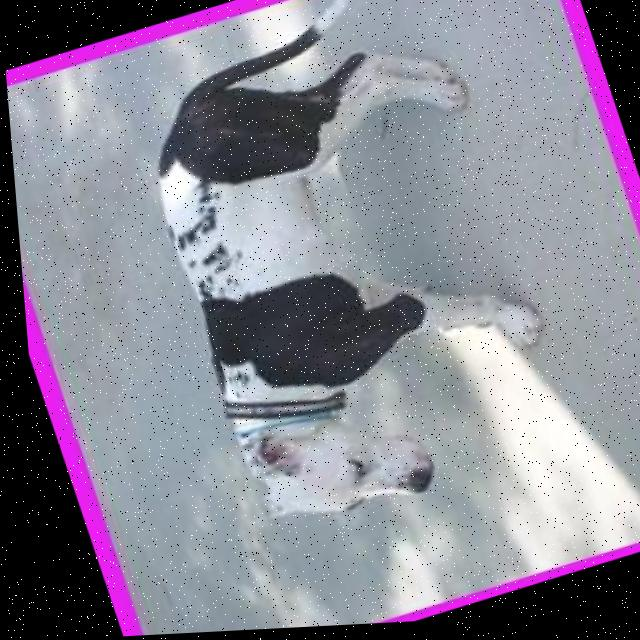dogs: (80, 0, 639, 570)
